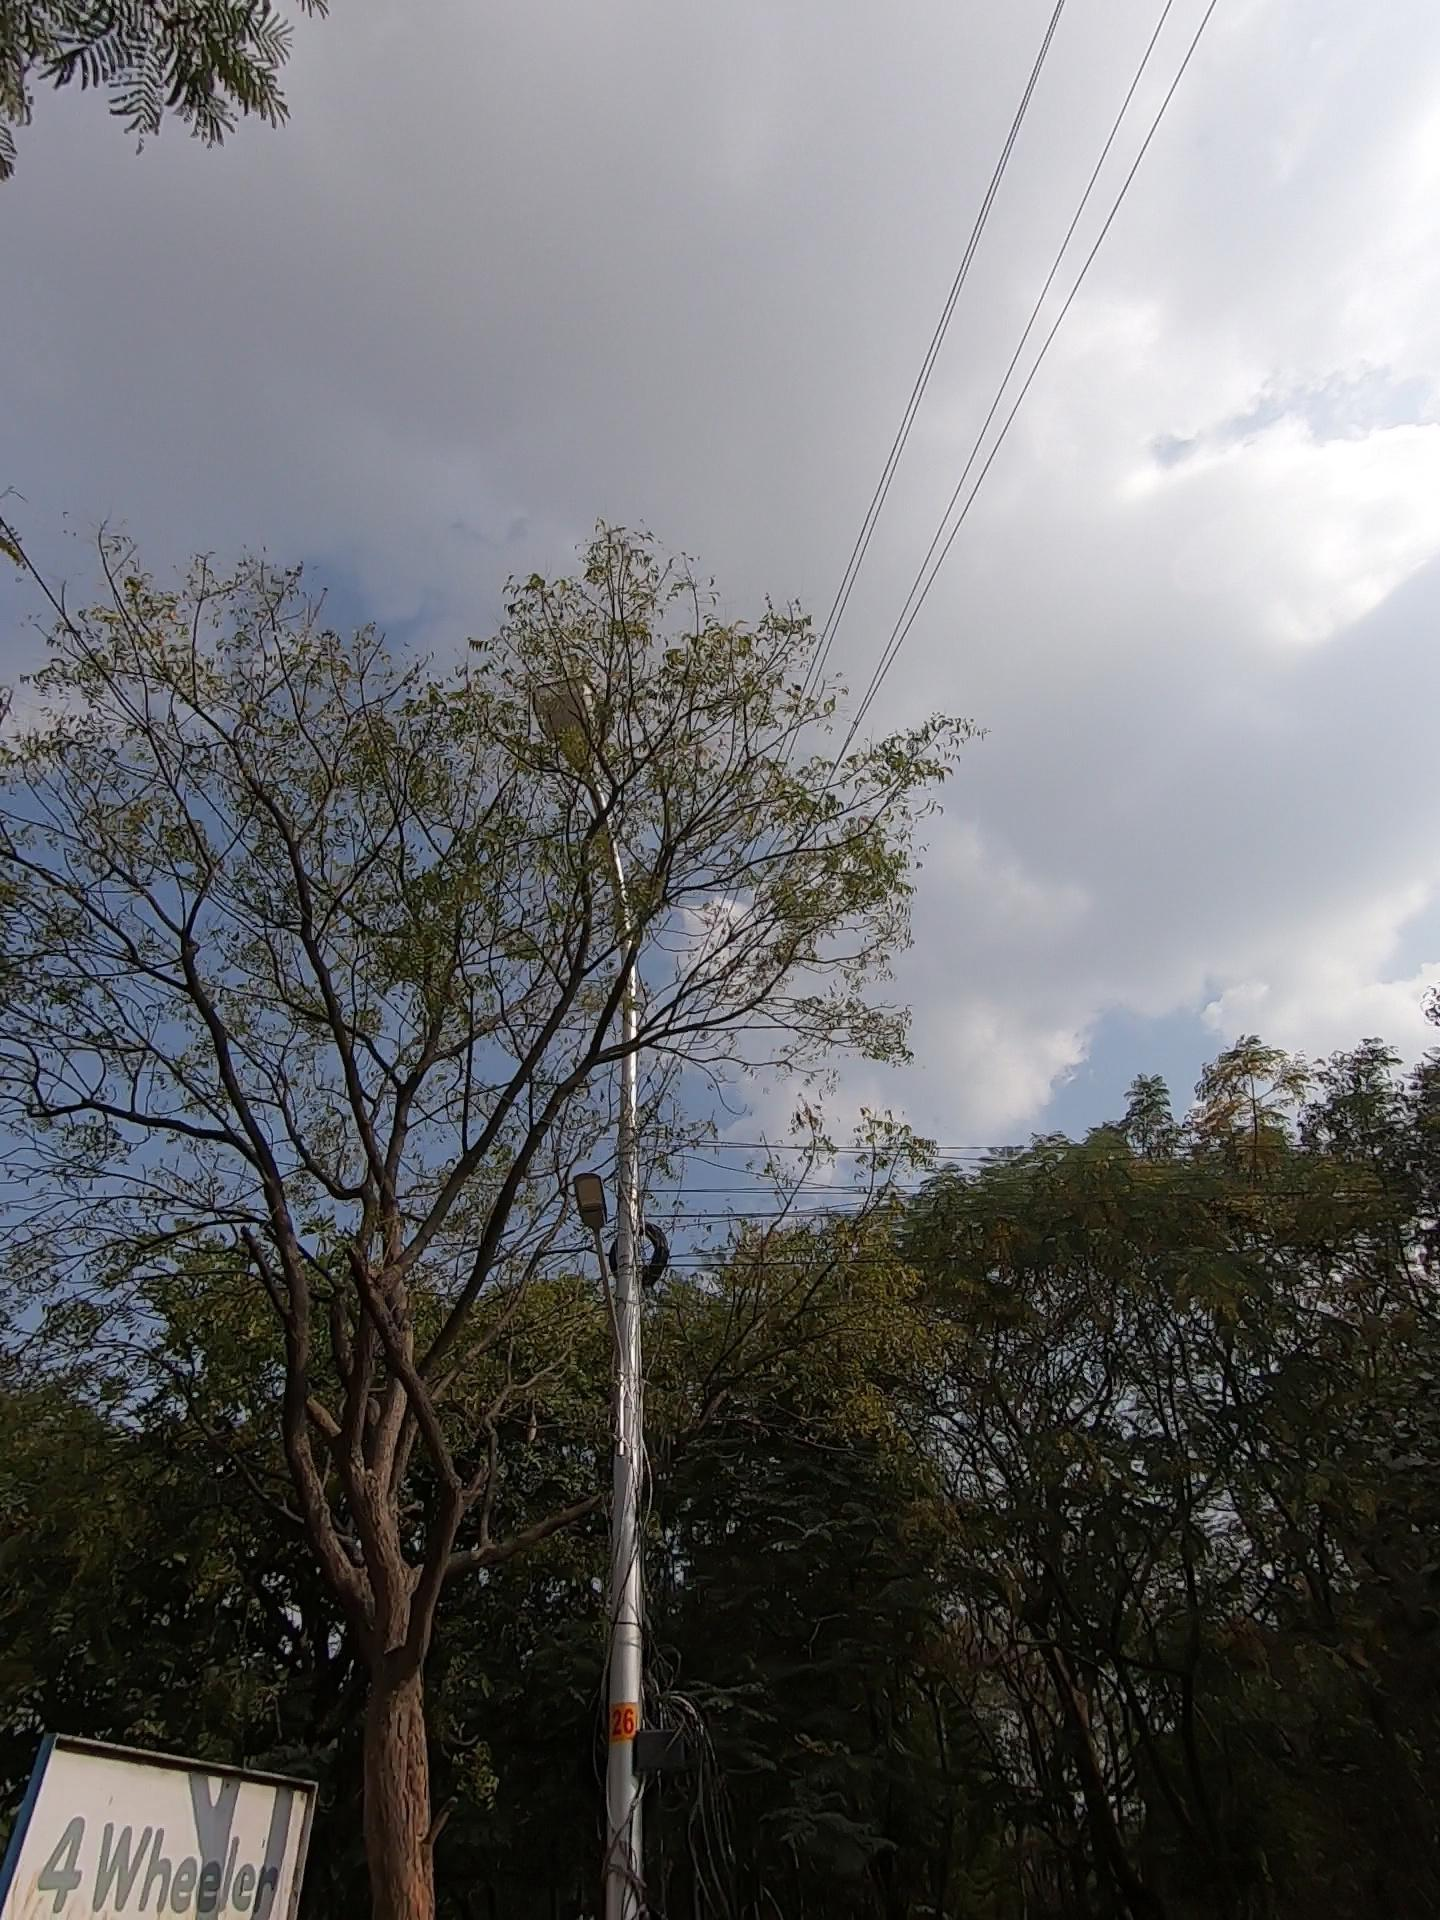off: (475, 636, 779, 1087)
